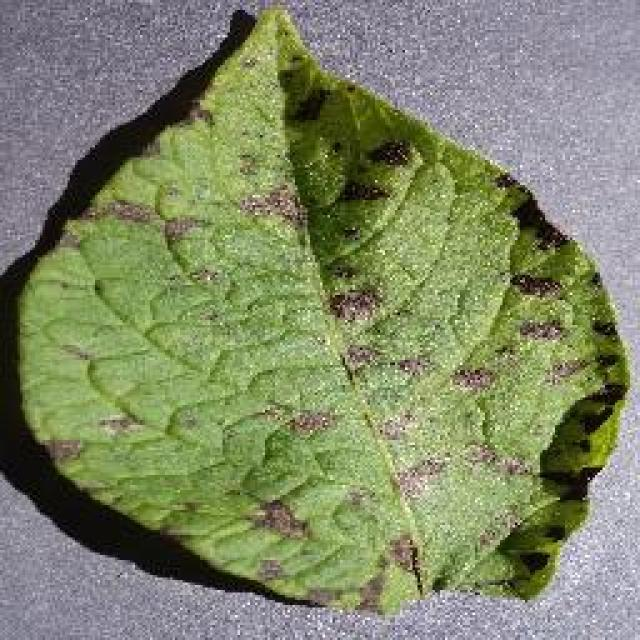early_blight: (8, 2, 632, 620)
